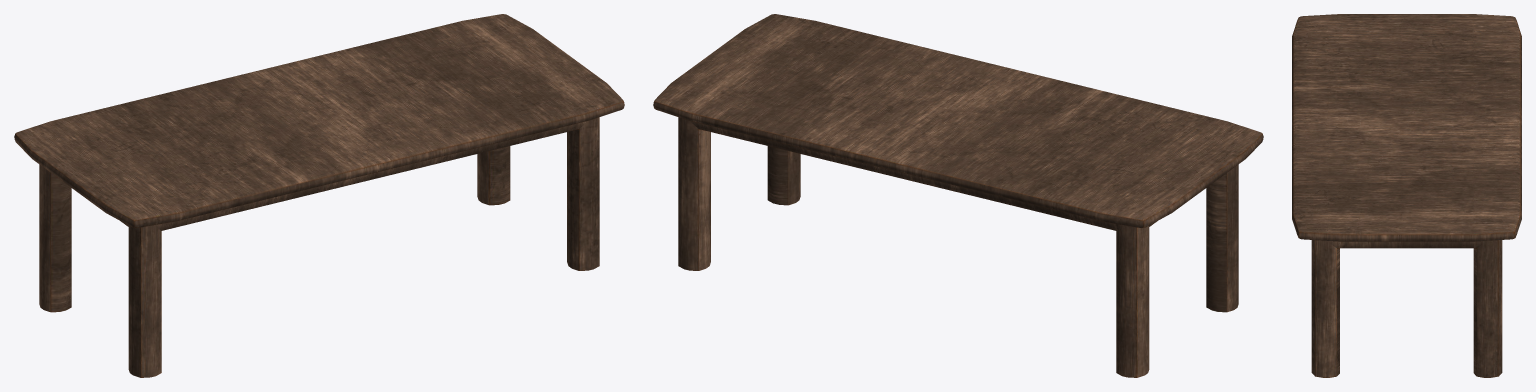
Rendered from table.fbx.
3 views of the same model, side by side, from view 1: azimuth 30°, elevation 25°; view 2: azimuth 150°, elevation 25°; view 3: azimuth 270°, elevation 25° (orthographic). The views are drawn at different scales.
Parts seen in each view (by area): view 1: table1; view 2: table1; view 3: table1.
Part boxes in pixels (left/top/right/bottom): table1: left=14, top=14, right=624, bottom=377; table1: left=653, top=14, right=1263, bottom=377; table1: left=1292, top=14, right=1521, bottom=377.
Bounding box in the file's own units: 114 × 36.54 × 49.96.
1 material, 1 textured.
